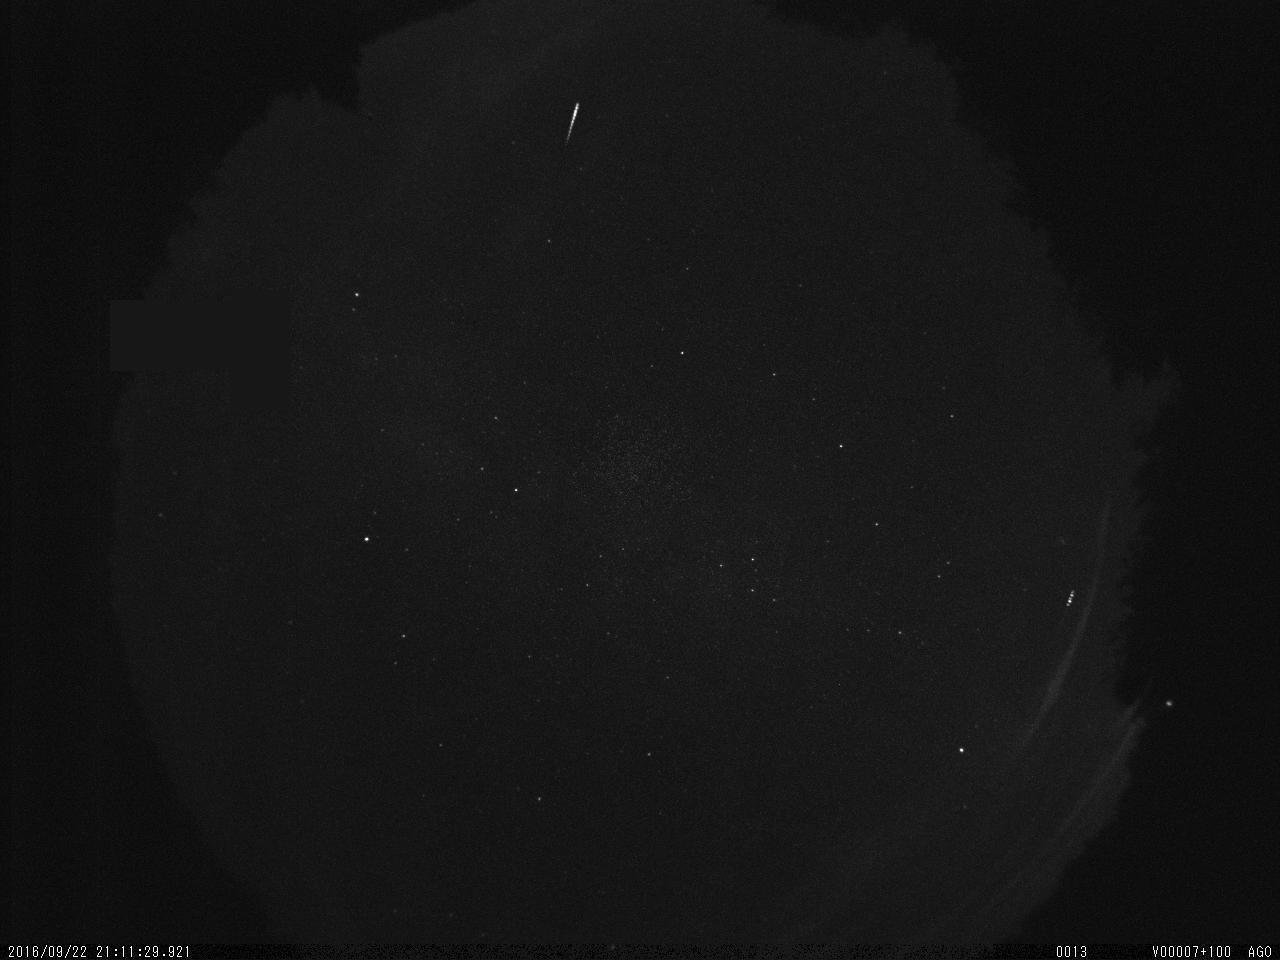Meteor: (563, 99, 584, 144)
